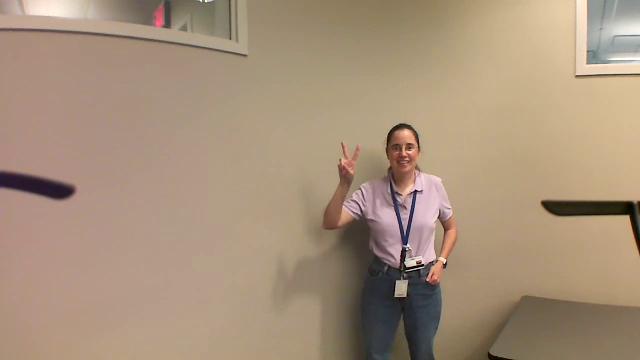peace: (334, 138, 367, 182)
